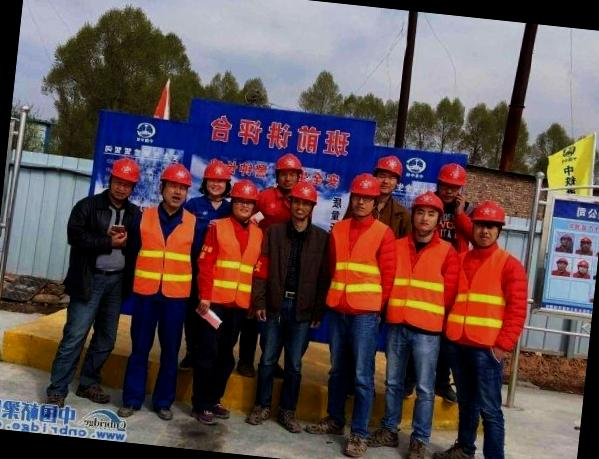helmet: (432, 158, 472, 196), (466, 200, 510, 234), (154, 160, 196, 194), (283, 178, 323, 213), (345, 172, 385, 206), (104, 156, 144, 190), (407, 190, 448, 222), (225, 178, 264, 210), (270, 150, 307, 183), (200, 160, 237, 192), (370, 154, 408, 183)
no_vest: (61, 198, 136, 303), (258, 224, 326, 325)
person: (434, 198, 537, 459), (43, 151, 142, 414), (305, 171, 397, 454), (369, 186, 462, 459), (243, 178, 335, 434), (114, 160, 203, 424), (184, 178, 266, 426)
